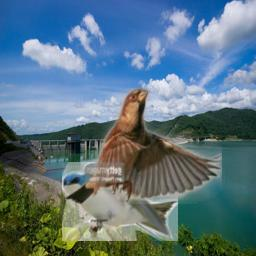Sparrow: (66, 88, 222, 204)
Swallow: (62, 162, 178, 241)
